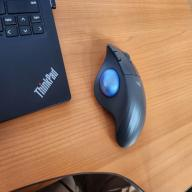mouse: (92, 42, 148, 150)
